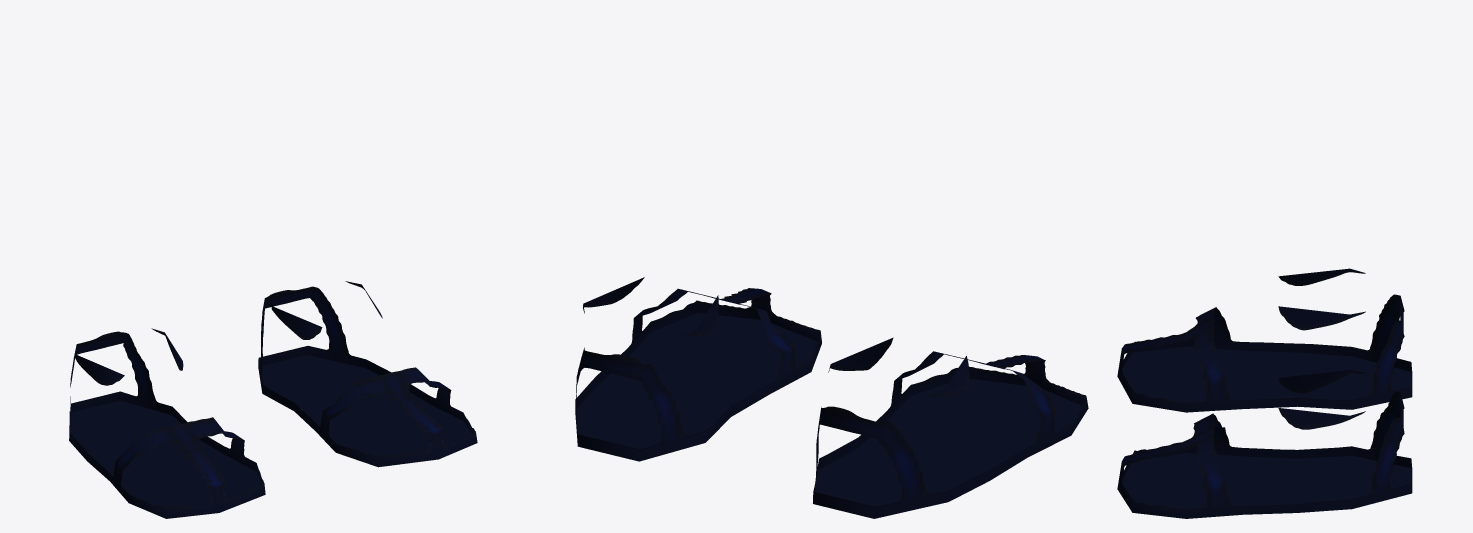
File: hum_berserker_07_1597ae91.glb
3 views of the same model, side by side, from view 1: azimuth 30°, elevation 25°; view 2: azimuth 150°, elevation 25°; view 3: azimuth 270°, elevation 25° (orthographic). The views are drawn at different scales.
Bounding box in the file's own units: 0.6773 × 0.5751 × 0.5104.
1 material, 1 textured.
